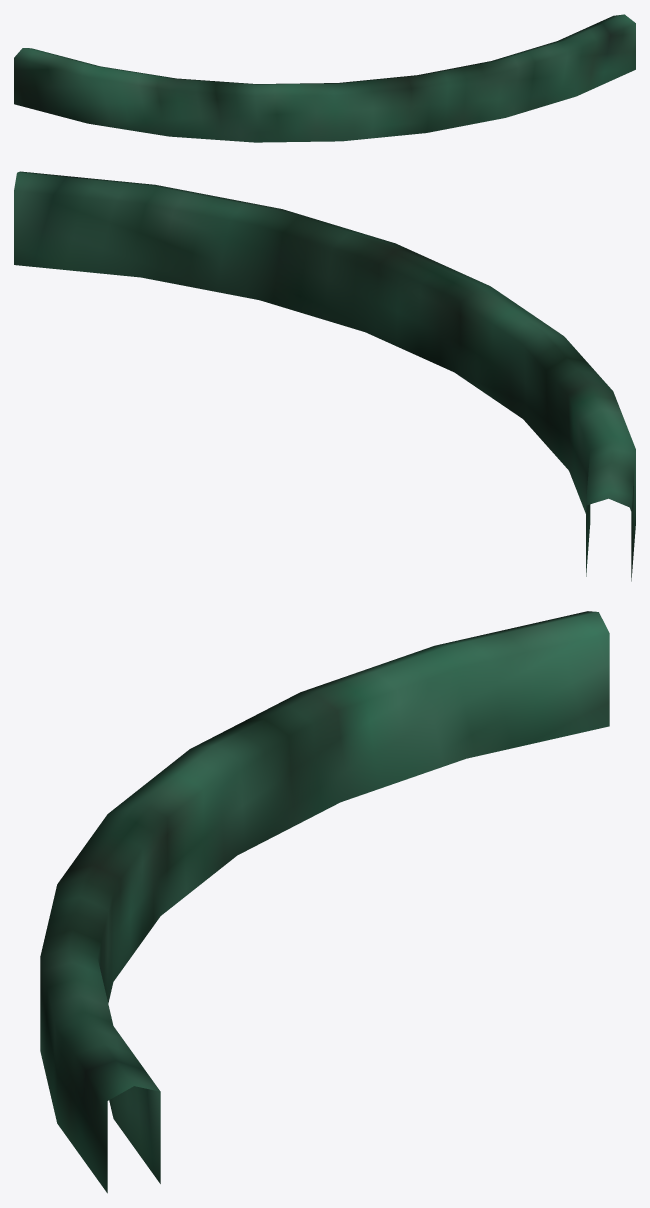
Rendered from Ring24.fbx.
The picture shows the model from 3 angles, top to bottom: view 1: azimuth 30°, elevation 25°; view 2: azimuth 150°, elevation 25°; view 3: azimuth 270°, elevation 25°; orthographic projection. The views are drawn at different scales.
Parts seen in each view (by area): view 1: Ring24; view 2: Ring24; view 3: Ring24.
Boxes of the visible parts, bbox=[...] form: Ring24: bbox=[14, 14, 635, 142]; Ring24: bbox=[14, 171, 635, 581]; Ring24: bbox=[40, 611, 609, 1193].
Bounding box in the file's own units: 4074 × 400 × 2002.
